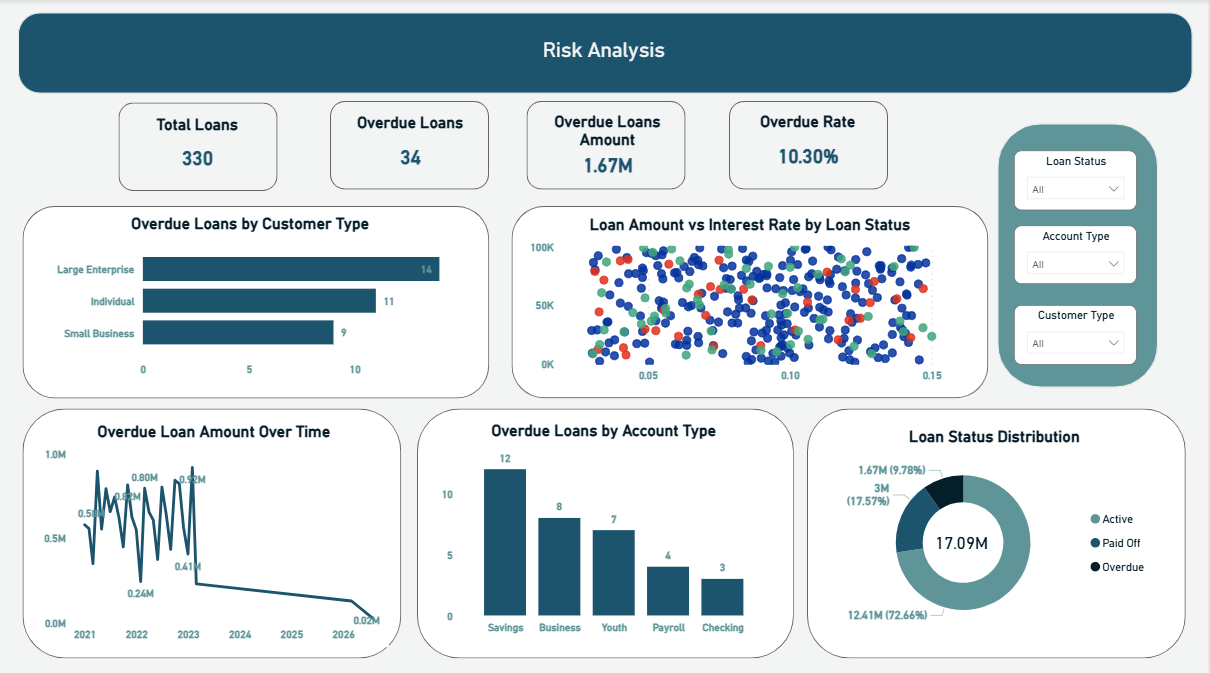

What the dashboard file says about the page in this screenshot:
{"tool":"powerbi","page":{"name":"Risk Analysis","canvas":[1280,720],"ordinal":2},"visuals":[{"type":"shape","box":[813.8,154.2,12.7,93.8],"z":0},{"type":"shape","box":[616.7,154.2,12.7,93.8],"z":1000},{"type":"shape","box":[411.7,154.2,12.7,93.8],"z":2000},{"type":"shape","box":[209.8,154.2,12.7,93.8],"z":3000},{"type":"shape","box":[19.1,14.3,1244.5,85.8],"z":4000},{"type":"textbox","box":[433.9,36.6,411.7,41.3],"z":5000},{"type":"shape","box":[1109.4,189.1,114.4,46.1],"z":6000},{"type":"shape","box":[1109.4,300.4,114.4,46.1],"z":7000},{"type":"shape","box":[24.1,219.9,494.5,203.9],"z":8000},{"type":"shape","box":[1057,131.9,170.1,279.7],"z":9000},{"type":"shape","box":[855.6,433.9,401.3,264.8],"z":10000},{"type":"shape","box":[24.4,433.9,401.3,264.8],"z":11000},{"type":"shape","box":[541.9,220,505.2,203.7],"z":12000},{"type":"scatterChart","title":"Loan Amount vs Interest Rate by Loan Status","fields":{"X":["Sum(loans.InterestRate)"],"Y":["Sum(loans.PrincipalAmount)"],"Category":["loans.LoanID"],"Series":["loan_statuses.StatusName"]},"box":[556.1,228.2,476.7,183.3],"z":13000},{"type":"donutChart","title":"Loan Status Distribution","fields":{"Category":["loan_statuses.StatusName"],"Y":["Sum(loans.PrincipalAmount)"]},"box":[880,452.2,346.3,226.1],"z":14000},{"type":"slicer","title":"Loan Status","fields":{"Values":["loan_statuses.StatusName"]},"box":[1074.4,160.5,130.3,63.6],"z":15000},{"type":"slicer","title":"Account Type","fields":{"Values":["account_types.TypeName"]},"box":[1074.4,240,130.3,62],"z":16000},{"type":"slicer","title":"Customer Type","fields":{"Values":["customer_types.TypeName"]},"box":[1074.4,324.2,130.3,63.6],"z":17000},{"type":"shape","box":[442.1,433.9,399.3,264.8],"z":18000},{"type":"shape","box":[125.6,109.7,168.5,93.8],"z":19000},{"type":"shape","box":[349.7,108.1,168.5,93.8],"z":20000},{"type":"shape","box":[557.9,108.1,168.5,93.8],"z":21000},{"type":"shape","box":[772.5,108.1,168.5,93.8],"z":22000},{"type":"card","title":"Total Loans","fields":{"Values":["CountNonNull(loans.LoanID)"]},"box":[125.6,122.4,166.9,73.1],"z":23000},{"type":"card","title":"Overdue Loans","fields":{"Values":["loans.Overdue Loans"]},"box":[351.3,120.8,166.9,73.1],"z":24000},{"type":"card","title":"Overdue Loans Amount","fields":{"Values":["loans.Overdue Loans Amount"]},"box":[560.3,118.8,165.4,73.8],"z":25000},{"type":"card","title":"Overdue Rate","fields":{"Values":["loans.Overdue Rate"]},"box":[772.2,118.8,167,73.8],"z":26000},{"type":"barChart","title":"Overdue Loans by Customer Type","fields":{"Category":["customer_types.TypeName"],"Y":["loans.Overdue Loans"]},"box":[54.6,228,422.2,178.2],"z":27000},{"type":"clusteredColumnChart","title":"Overdue Loans by Account Type","fields":{"Y":["loans.Overdue Loans"],"Category":["account_types.TypeName"]},"box":[462.4,446.1,354.5,232.2],"z":28000},{"type":"lineChart","title":"Overdue Loan Amount Over Time","fields":{"Y":["Sum(loans.PrincipalAmount)"],"Category":["loans.StartDate.Variation.Date Hierarchy.Year","loans.StartDate.Variation.Date Hierarchy.Month"]},"box":[40.7,448.2,370.8,238.3],"z":29000},{"type":"card","fields":{"Values":["Sum(loans.PrincipalAmount)"]},"box":[979.3,558.7,78.7,36.9],"z":30000}]}

Visuals, with their boxes in screenshot pixels (x1, y1, x2, y2), scaled from the page's 1280x720 canvas onto the 1210x673 screenshot:
shape: 769/144/781/232
shape: 583/144/595/232
shape: 389/144/401/232
shape: 198/144/210/232
shape: 18/13/1194/94
textbox: 410/34/799/73
shape: 1049/177/1157/220
shape: 1049/281/1157/324
shape: 23/206/490/396
shape: 999/123/1160/385
shape: 809/406/1188/653
shape: 23/406/402/653
shape: 512/206/990/396
"Loan Amount vs Interest Rate by Loan Status" scatterChart: 526/213/976/385
"Loan Status Distribution" donutChart: 832/423/1159/634
"Loan Status" slicer: 1016/150/1139/209
"Account Type" slicer: 1016/224/1139/282
"Customer Type" slicer: 1016/303/1139/362
shape: 418/406/795/653
shape: 119/103/278/190
shape: 331/101/490/189
shape: 527/101/687/189
shape: 730/101/890/189
"Total Loans" card: 119/114/277/183
"Overdue Loans" card: 332/113/490/181
"Overdue Loans Amount" card: 530/111/686/180
"Overdue Rate" card: 730/111/888/180
"Overdue Loans by Customer Type" barChart: 52/213/451/380
"Overdue Loans by Account Type" clusteredColumnChart: 437/417/772/634
"Overdue Loan Amount Over Time" lineChart: 38/419/389/642
card - Sum(loans.PrincipalAmount): 926/522/1000/557
